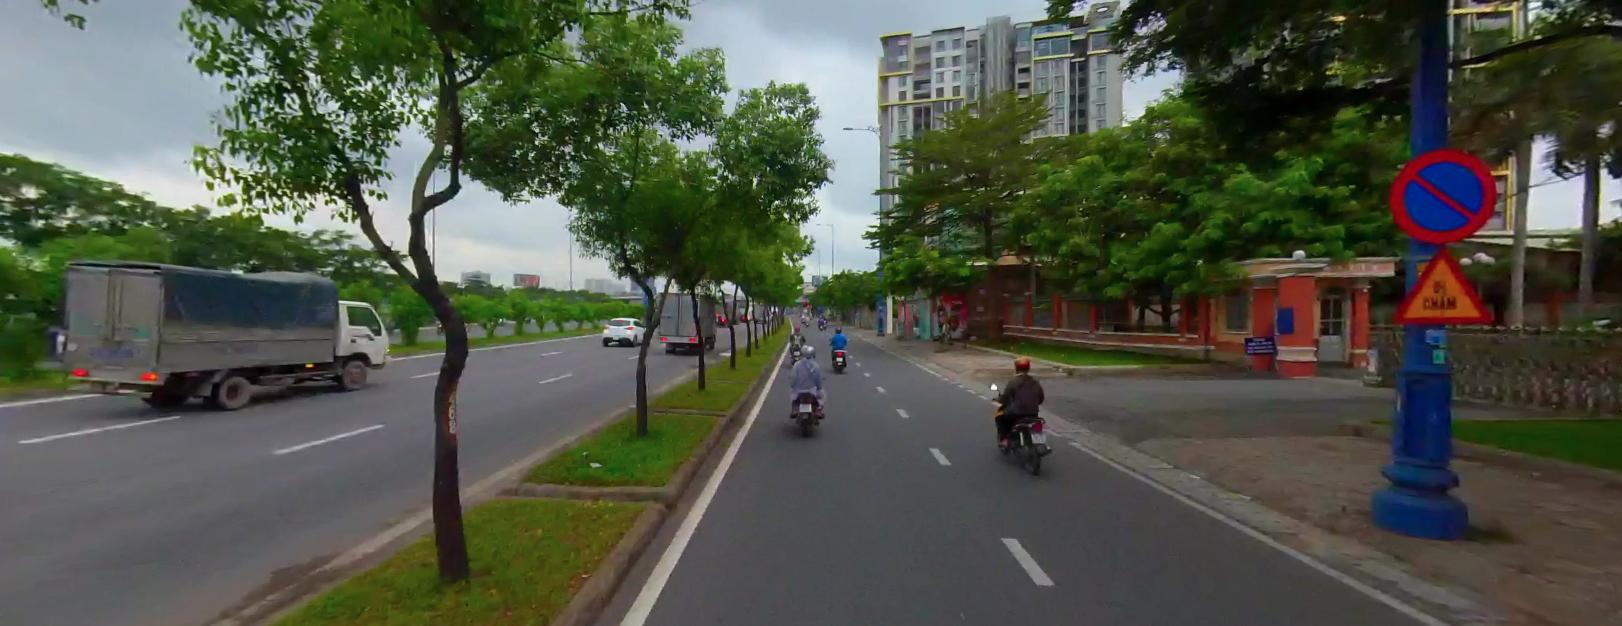Cam dung va do: (1393, 149, 1495, 243)
Nguy hiem: (1391, 242, 1492, 325)
